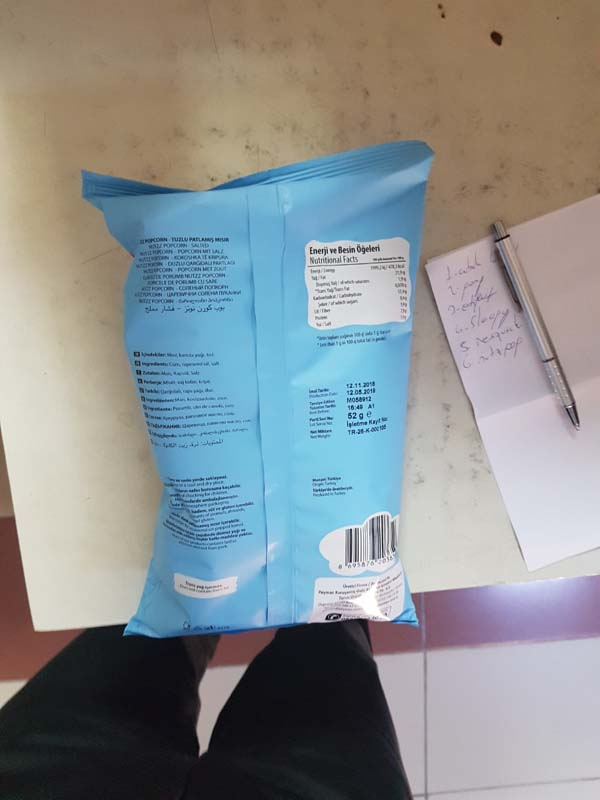popcorn: (65, 134, 438, 642)
